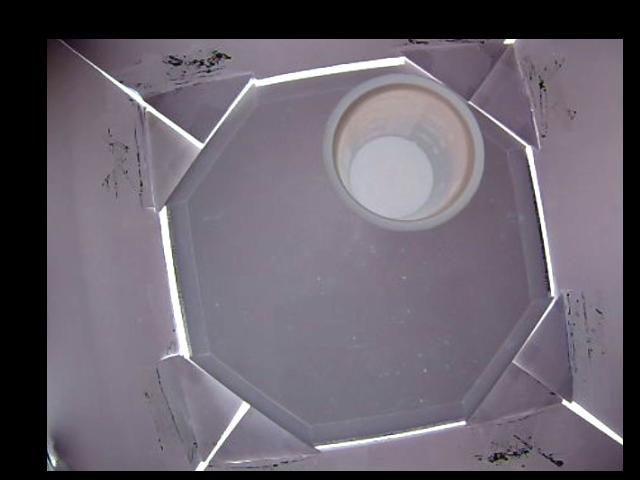Cup: (328, 74, 484, 231)
